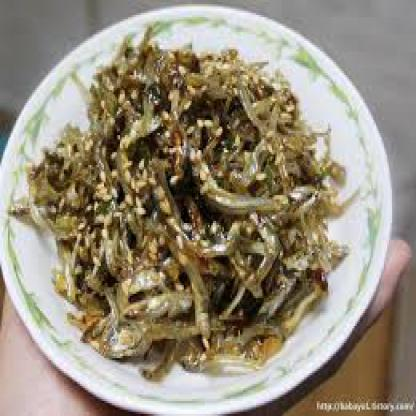stir-fried anchovies: (34, 43, 334, 356)
